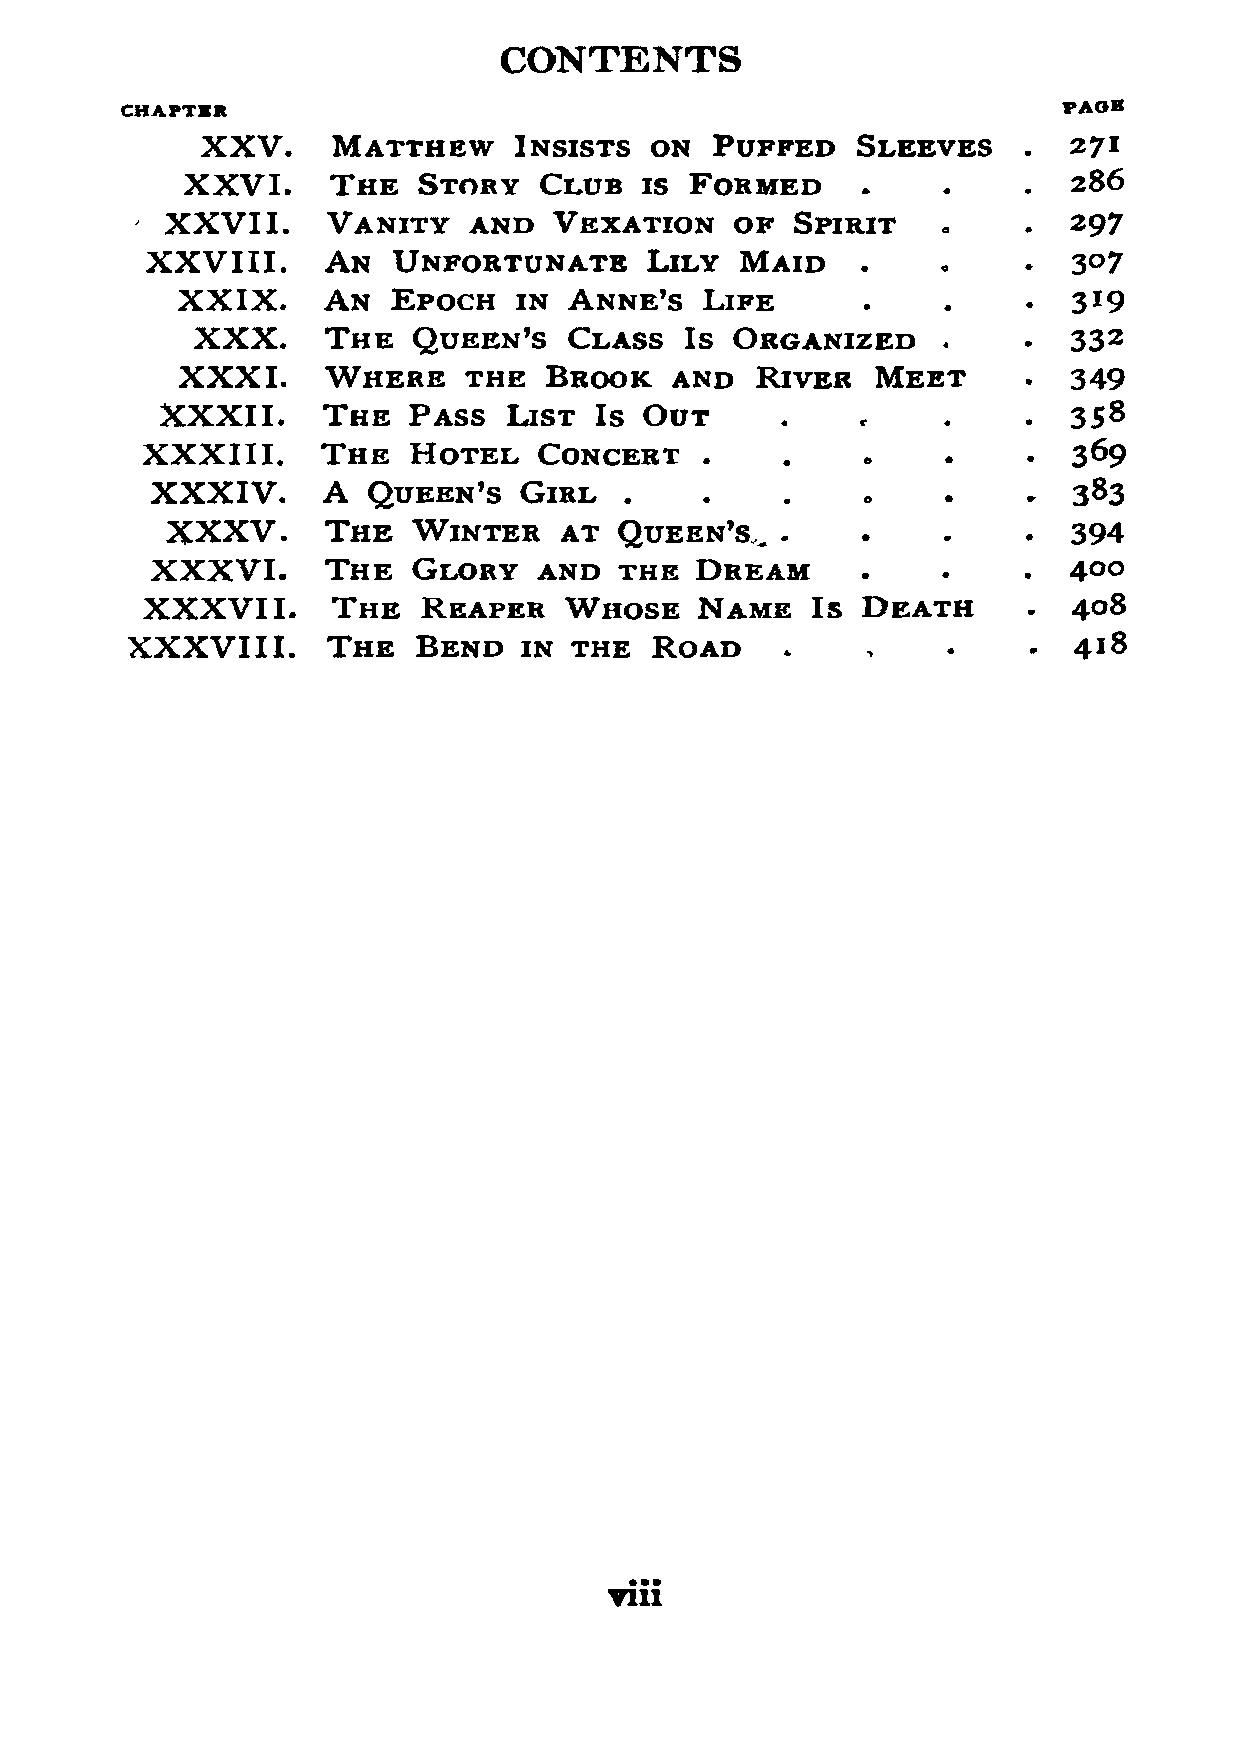TOC_chapter: (195, 123, 998, 162), (173, 360, 972, 393), (144, 552, 815, 590), (137, 593, 976, 624), (162, 207, 900, 242), (187, 319, 919, 353), (140, 246, 841, 280), (122, 631, 747, 667), (170, 283, 782, 317), (160, 515, 752, 549), (178, 166, 828, 196), (136, 440, 682, 472), (156, 399, 713, 428), (146, 474, 601, 509)
TOC_pagenumber: (1072, 629, 1137, 664), (1066, 282, 1122, 319), (1066, 246, 1127, 279), (1066, 515, 1125, 549), (1063, 397, 1126, 428), (1071, 435, 1129, 466), (1071, 364, 1130, 393), (1066, 166, 1127, 195), (1066, 205, 1122, 236), (1074, 472, 1122, 506), (1071, 590, 1122, 621), (1068, 326, 1127, 352), (1068, 560, 1126, 584), (1068, 130, 1121, 154)
chapter: (486, 36, 747, 81)
